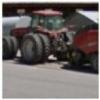tractors: (2, 11, 72, 65)
